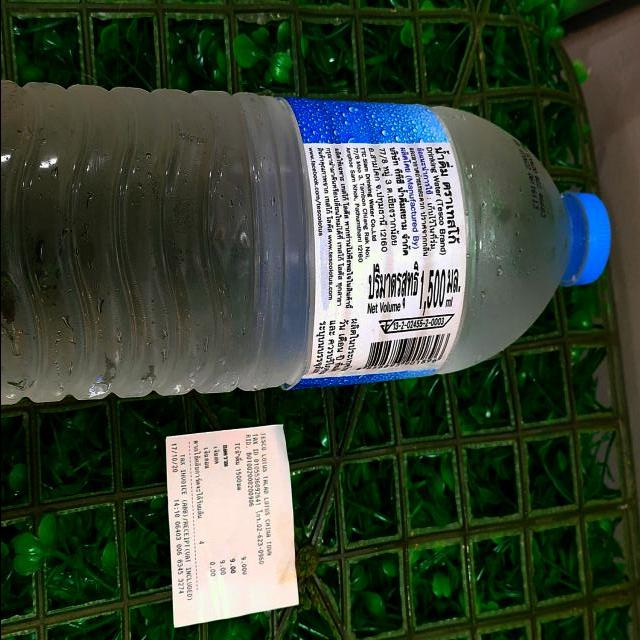cap: (560, 188, 611, 290)
label: (298, 92, 460, 394)
not-crumbled: (0, 71, 622, 408)
